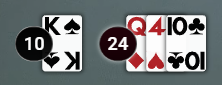10: (164, 15, 188, 39)
4: (147, 15, 167, 39)
k: (40, 14, 63, 39)
q: (125, 15, 148, 39)
